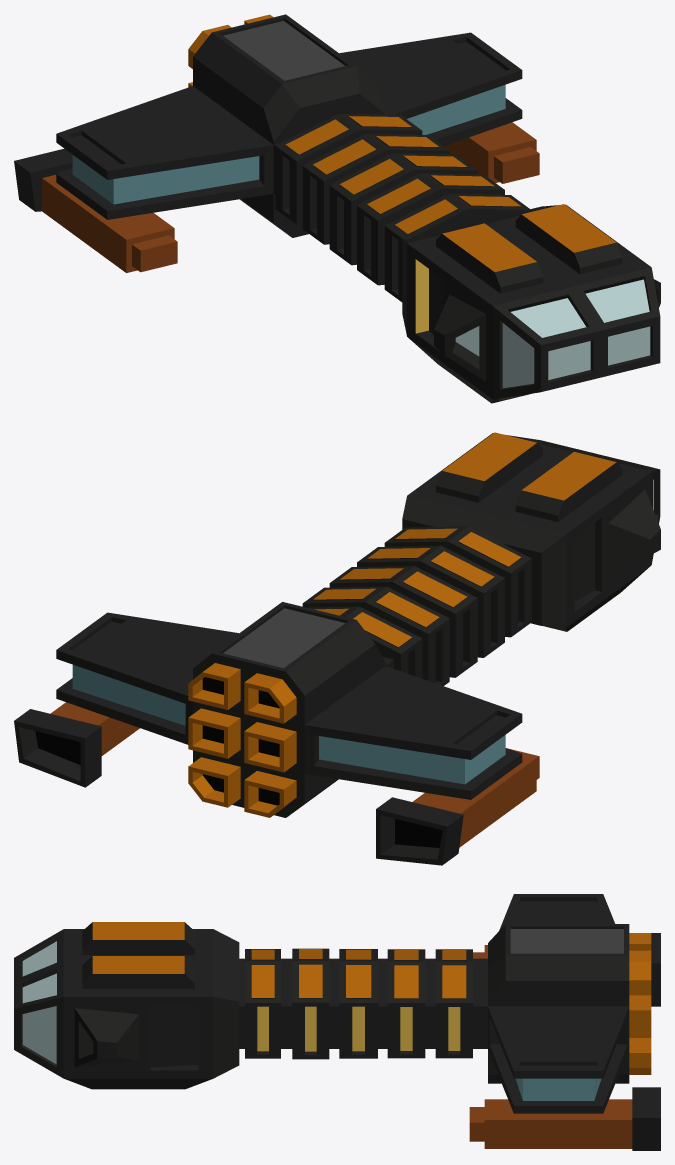
The model's file is Corvette.glb.
The picture shows the model from 3 angles, top to bottom: view 1: azimuth 30°, elevation 25°; view 2: azimuth 150°, elevation 25°; view 3: azimuth 270°, elevation 25°; orthographic projection. The views are drawn at different scales.
Visible parts, largest first — view 1: CargoShip; view 2: CargoShip; view 3: CargoShip.
Part boxes in pixels (box(x1,y1,x2,y2)): CargoShip: box(14, 14, 660, 403); CargoShip: box(14, 432, 660, 865); CargoShip: box(14, 894, 660, 1150).
Bounding box in the file's own units: 10.39 × 3.37 × 15.36.
Materials: 1 (1 with a texture image).
